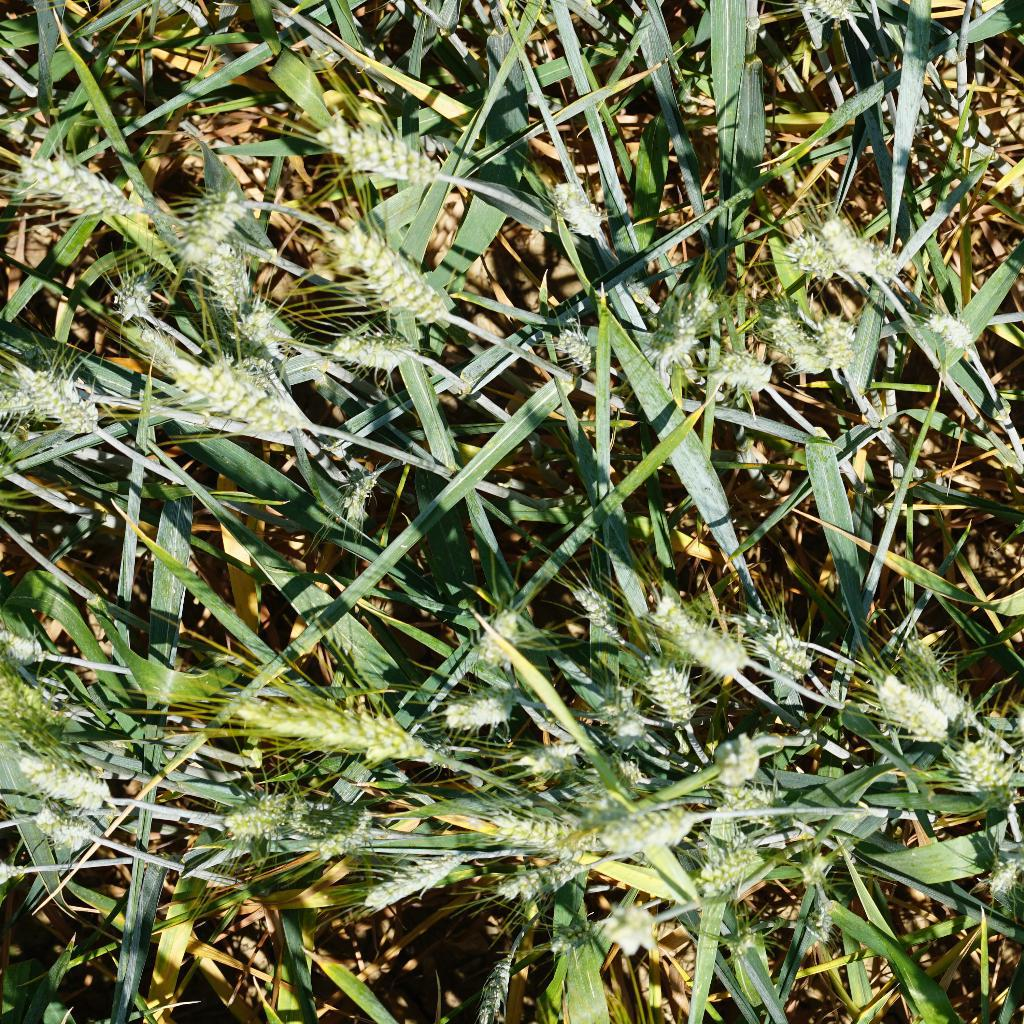0-0: (207, 678, 429, 777), (314, 220, 460, 332), (10, 146, 152, 236), (295, 115, 449, 195), (174, 352, 310, 433), (642, 595, 757, 683), (4, 361, 114, 445), (0, 664, 93, 759), (8, 754, 127, 826), (537, 168, 621, 260), (858, 672, 953, 748), (732, 606, 828, 679), (700, 775, 803, 837), (460, 793, 565, 852), (638, 280, 699, 380), (325, 313, 418, 378), (172, 179, 245, 261), (552, 804, 695, 844), (346, 860, 462, 907), (761, 295, 823, 380), (823, 209, 889, 287), (286, 800, 377, 856), (489, 860, 590, 909), (806, 305, 866, 387), (432, 684, 527, 733), (945, 742, 1020, 804), (684, 836, 759, 897), (206, 784, 286, 840), (600, 894, 666, 961), (494, 728, 582, 778), (545, 324, 626, 378), (911, 298, 979, 362), (27, 808, 107, 862), (464, 950, 522, 1024), (645, 654, 698, 731), (698, 343, 777, 393), (324, 471, 385, 535), (918, 684, 993, 732), (202, 256, 268, 310), (538, 911, 609, 960), (708, 727, 764, 787), (574, 750, 653, 791), (580, 688, 646, 737), (474, 612, 527, 672), (109, 275, 172, 320), (235, 303, 294, 351), (784, 227, 828, 283), (570, 583, 623, 628), (707, 919, 762, 961), (977, 851, 1024, 895), (793, 901, 836, 943), (791, 843, 832, 886), (1011, 701, 1024, 751)
